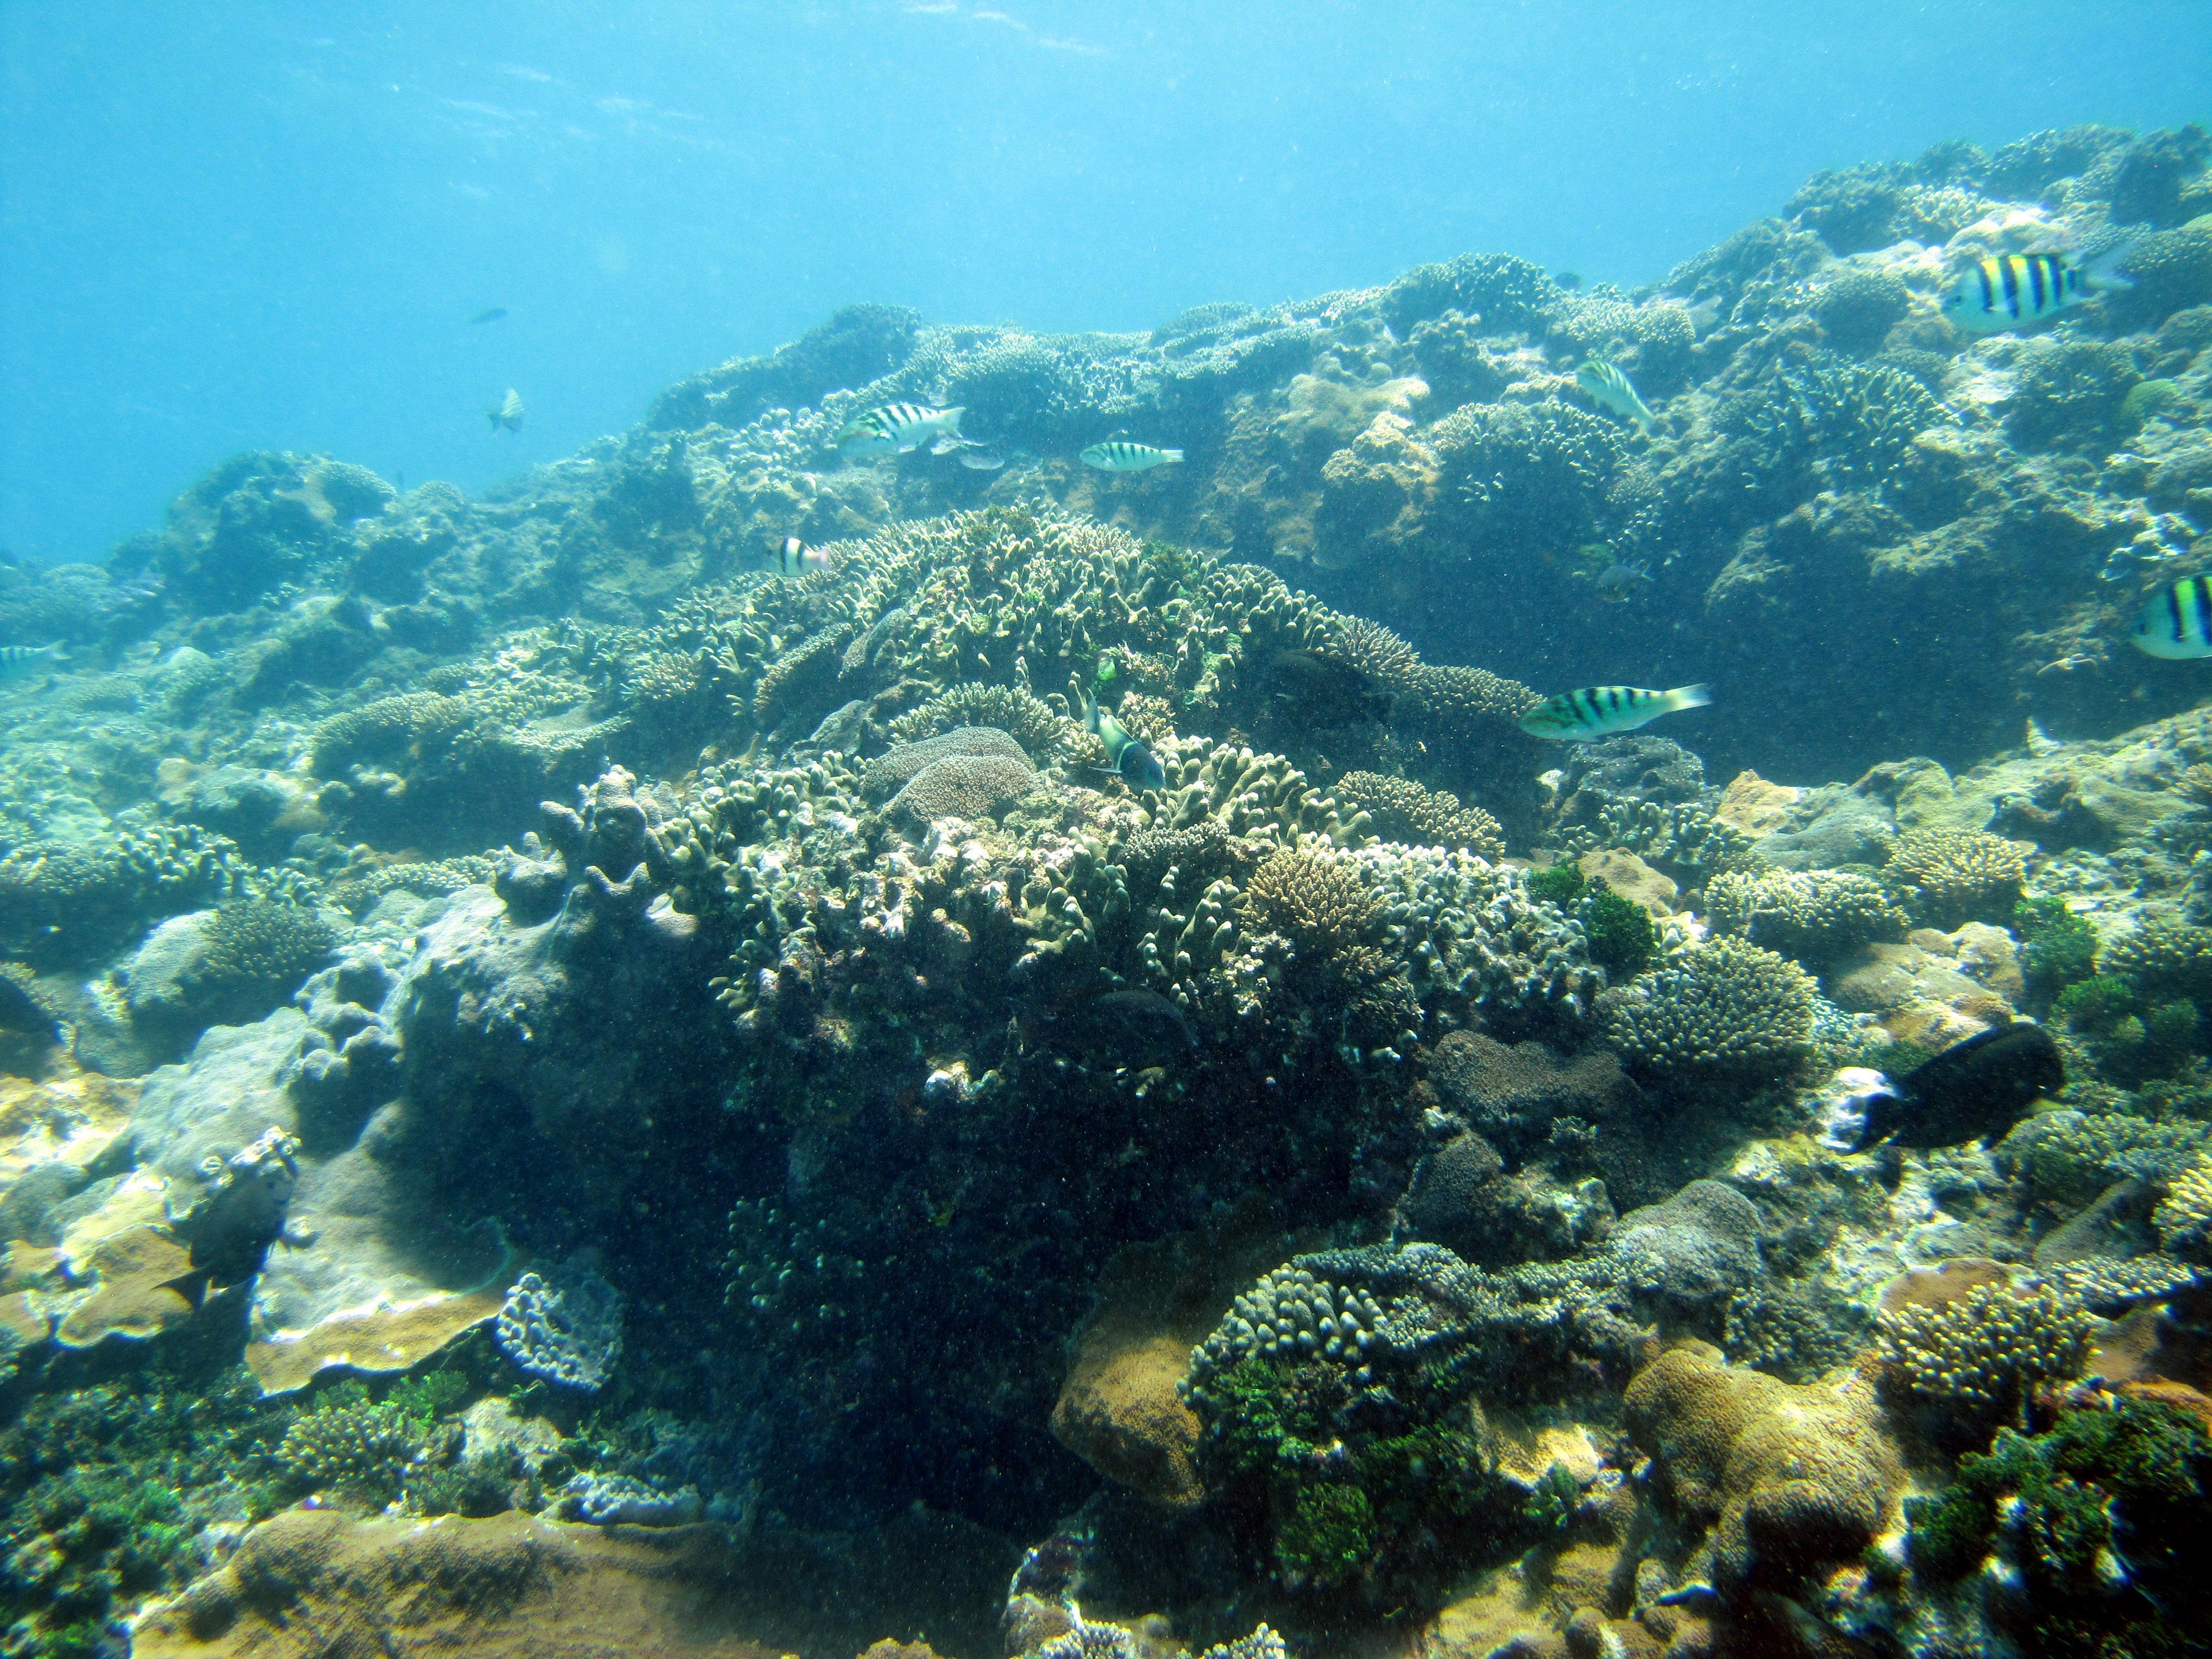Fish: (1893, 220, 2193, 368), (1475, 653, 1766, 779), (810, 397, 1005, 472), (1071, 430, 1200, 493)
